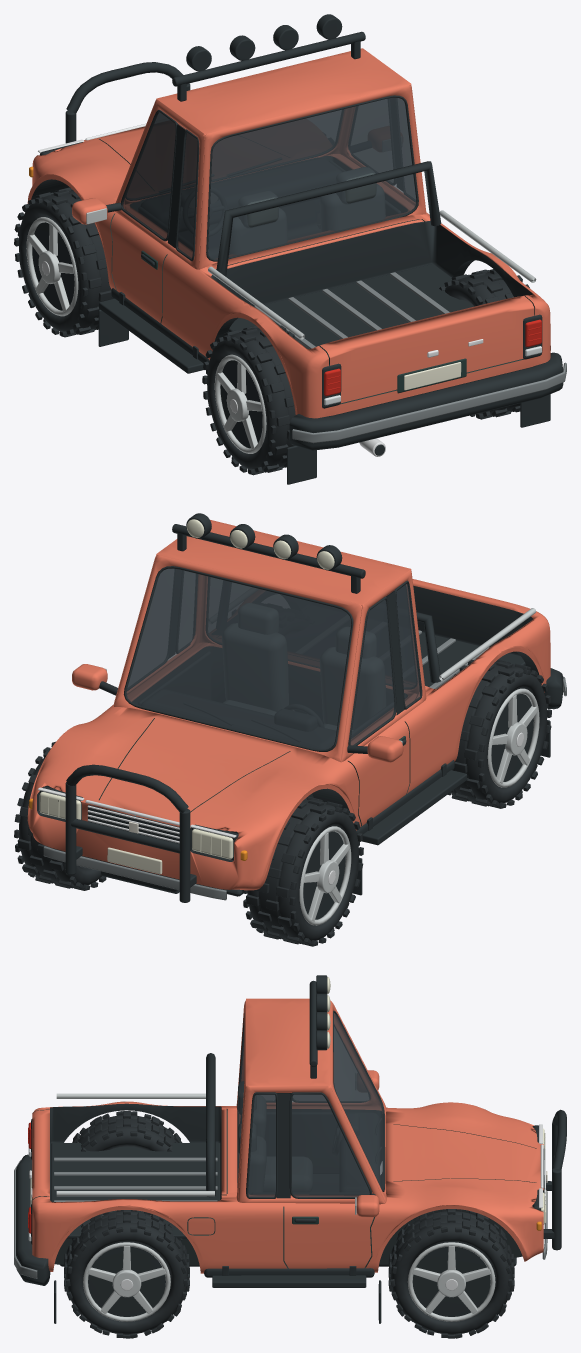
File: drover_lod1.fbx
3 renders of one model, top to bottom at view 1: azimuth 30°, elevation 25°; view 2: azimuth 150°, elevation 25°; view 3: azimuth 270°, elevation 25°, orthographic. The views are drawn at different scales.
Visible parts, largest first — view 1: Body, Wheel_RL_Mesh, Wheel_FL_Mesh, Wheel_RR_Mesh; view 2: Body, Wheel_FL_Mesh, Wheel_RL_Mesh, Wheel_FR_Mesh; view 3: Body, Wheel_FR_Mesh, Wheel_RR_Mesh, Wheel_RL_Mesh.
Part boxes in pixels (bbox=[...]): Body: bbox=[27, 14, 566, 484]; Wheel_RL_Mesh: bbox=[202, 324, 302, 475]; Wheel_FL_Mesh: bbox=[14, 187, 112, 337]; Wheel_RR_Mesh: bbox=[439, 269, 550, 419]; Body: bbox=[27, 513, 566, 902]; Wheel_FL_Mesh: bbox=[242, 796, 363, 946]; Wheel_RL_Mesh: bbox=[447, 658, 551, 808]; Wheel_FR_Mesh: bbox=[14, 741, 106, 890]; Body: bbox=[14, 975, 566, 1323]; Wheel_FR_Mesh: bbox=[388, 1209, 514, 1338]; Wheel_RR_Mesh: bbox=[64, 1210, 189, 1338]; Wheel_RL_Mesh: bbox=[72, 1111, 182, 1151].
Size of the model in its own units: 238 by 227 by 409.
